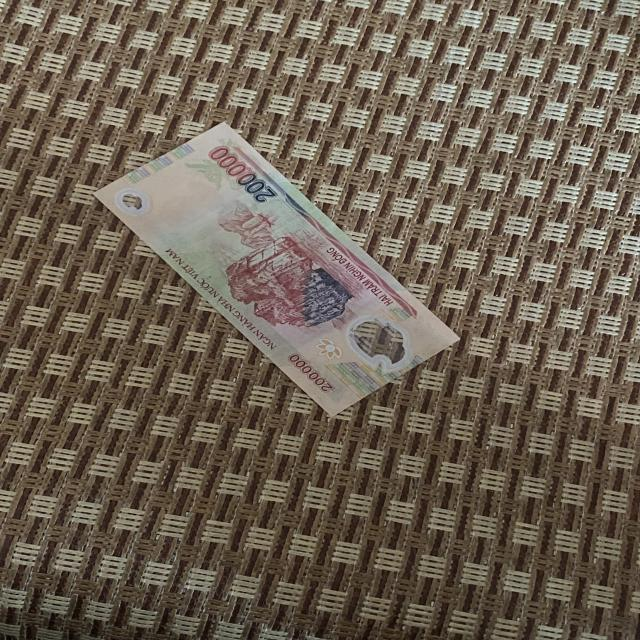200 000 VND: (90, 120, 463, 422)
